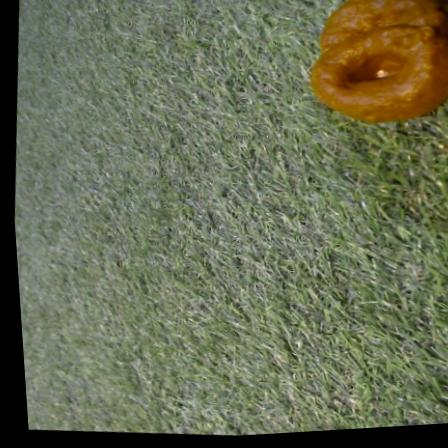dog-poop: (301, 0, 448, 138)
